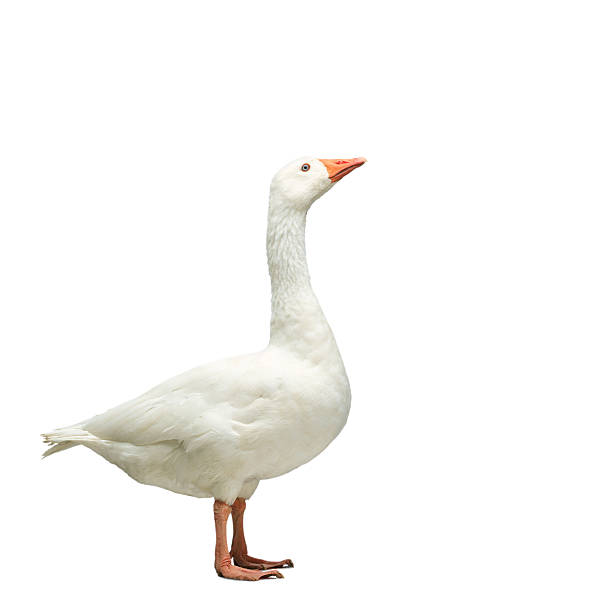goose: (27, 151, 371, 591)
